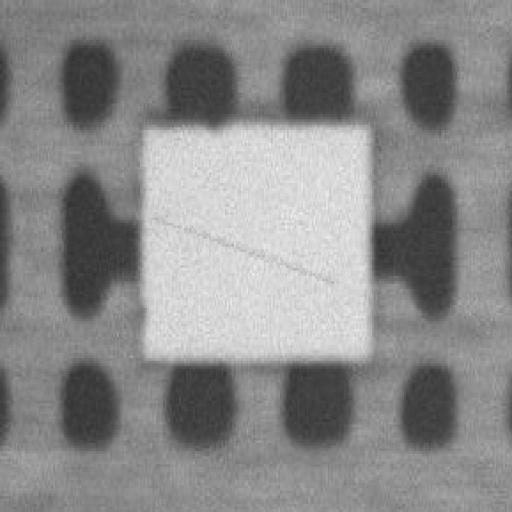DIE_CRACK: (228, 144, 496, 186)
